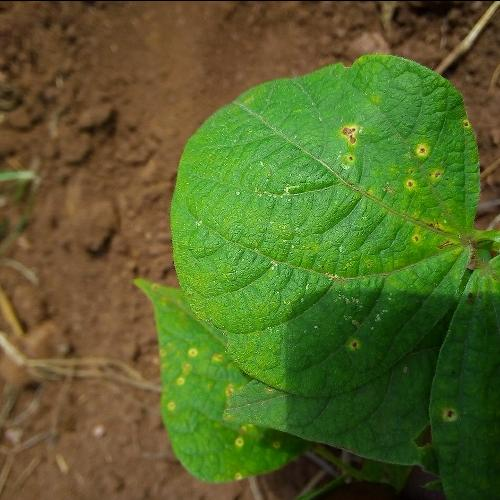hawar: (298, 105, 464, 216), (316, 285, 401, 376), (438, 364, 477, 443)
